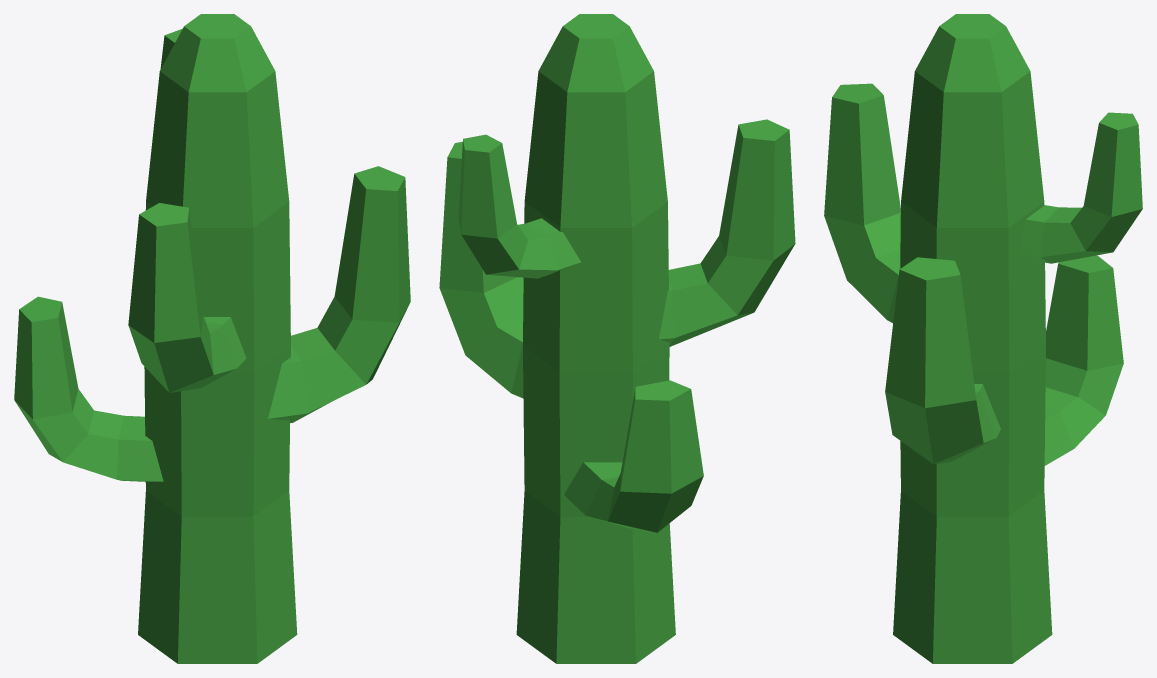
Rendered from Cactus_5.fbx.
3 views of the same model, side by side, from view 1: azimuth 30°, elevation 25°; view 2: azimuth 150°, elevation 25°; view 3: azimuth 270°, elevation 25° (orthographic).
Visible parts, largest first — view 1: Cactus, Arm.002, Arm.001, Arm; view 2: Cactus, Arm.001, Arm, Arm.002, Arm.003; view 3: Cactus, Arm.002, Arm.001, Arm, Arm.003.
Part boxes in pixels (<box>): Cactus: <box>138,14,297,663</box>; Arm.002: <box>268,166,410,422</box>; Arm.001: <box>128,203,246,392</box>; Arm: <box>14,296,163,481</box>; Cactus: <box>516,14,675,663</box>; Arm.001: <box>659,119,795,346</box>; Arm: <box>564,380,703,532</box>; Arm.002: <box>439,142,523,398</box>; Arm.003: <box>458,134,580,278</box>; Cactus: <box>893,14,1052,663</box>; Arm.002: <box>885,257,1000,464</box>; Arm.001: <box>824,83,900,322</box>; Arm: <box>1044,255,1123,465</box>; Arm.003: <box>1020,112,1142,263</box>.
Bounding box in the file's own units: 81.84 × 151 × 71.59.
